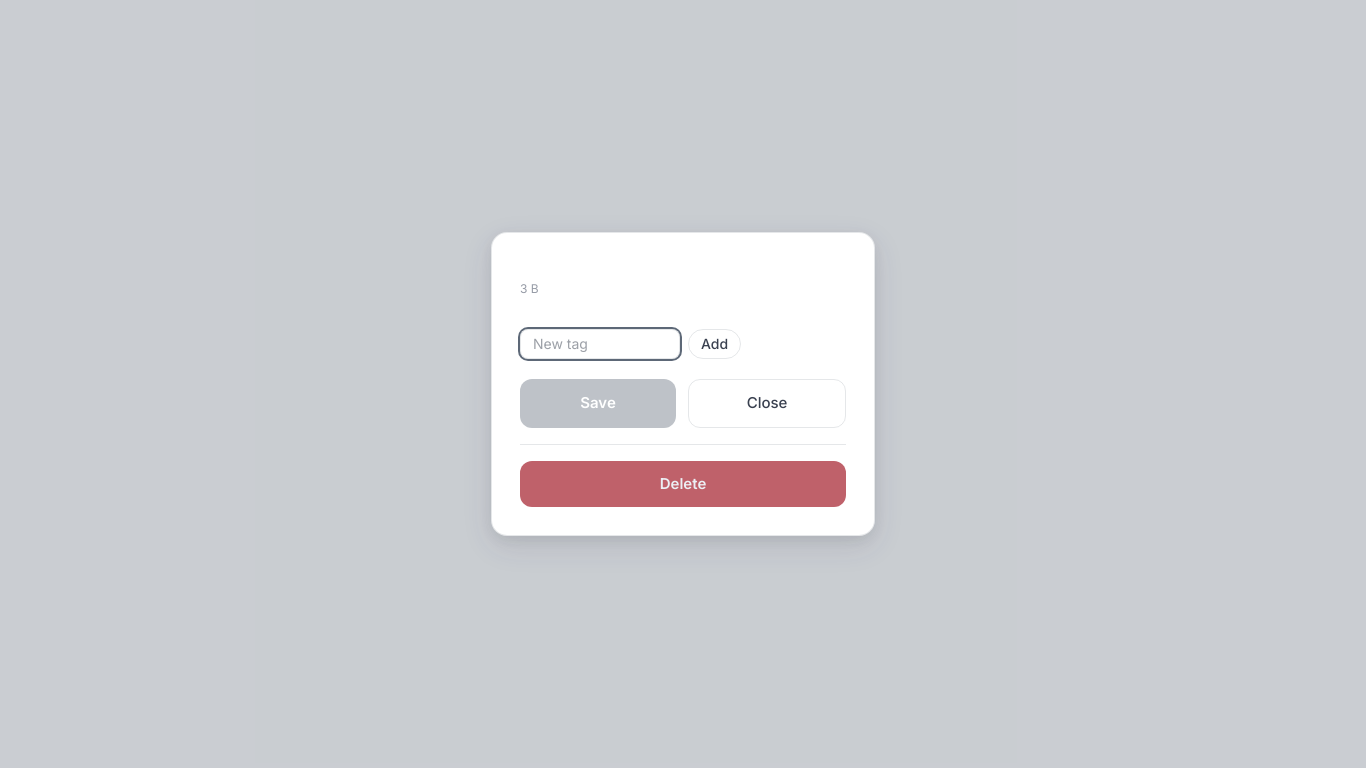
Test: SourceSheet › creates a new tag and stages its assignment
Type "Ducklings" into the field labelled "New tag" at (600, 344), box [520,329,680,359]
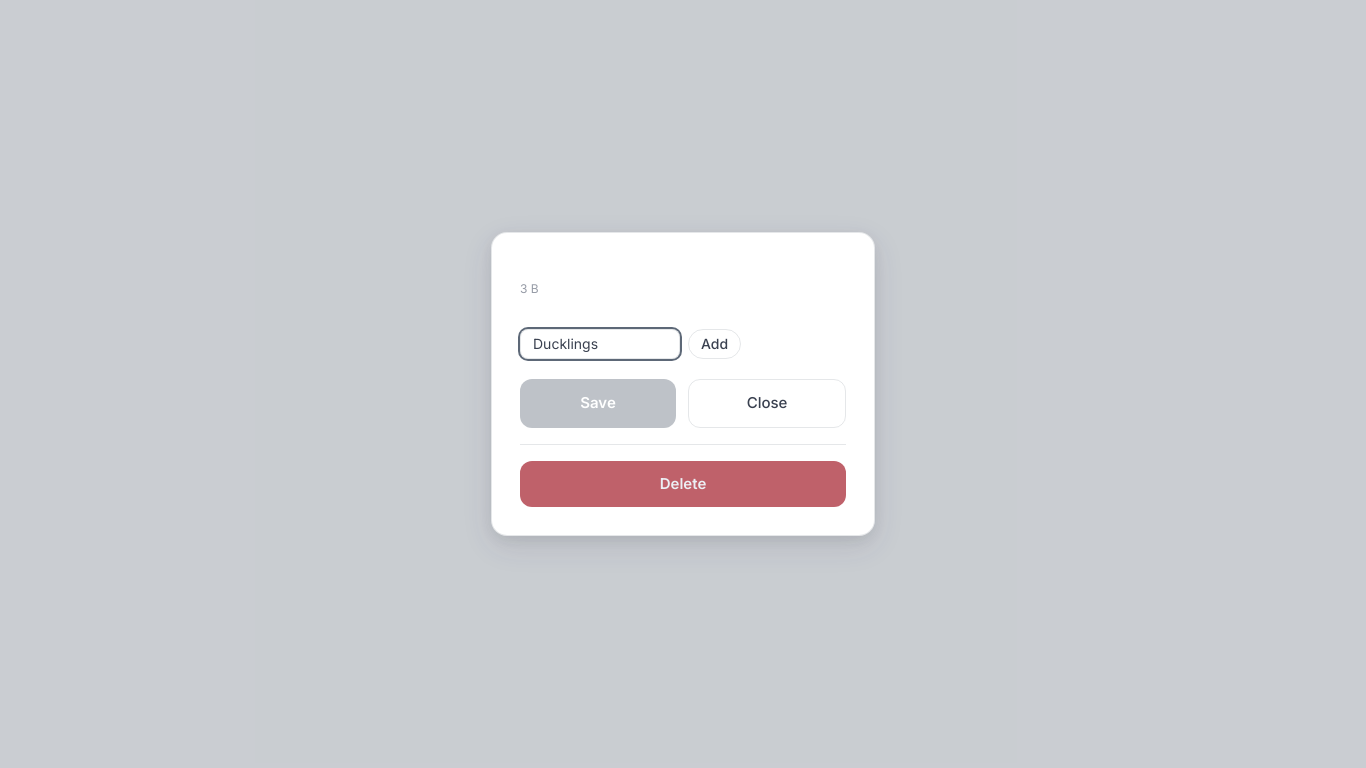
Click the button "Add" at (715, 344), box [688,329,741,359]
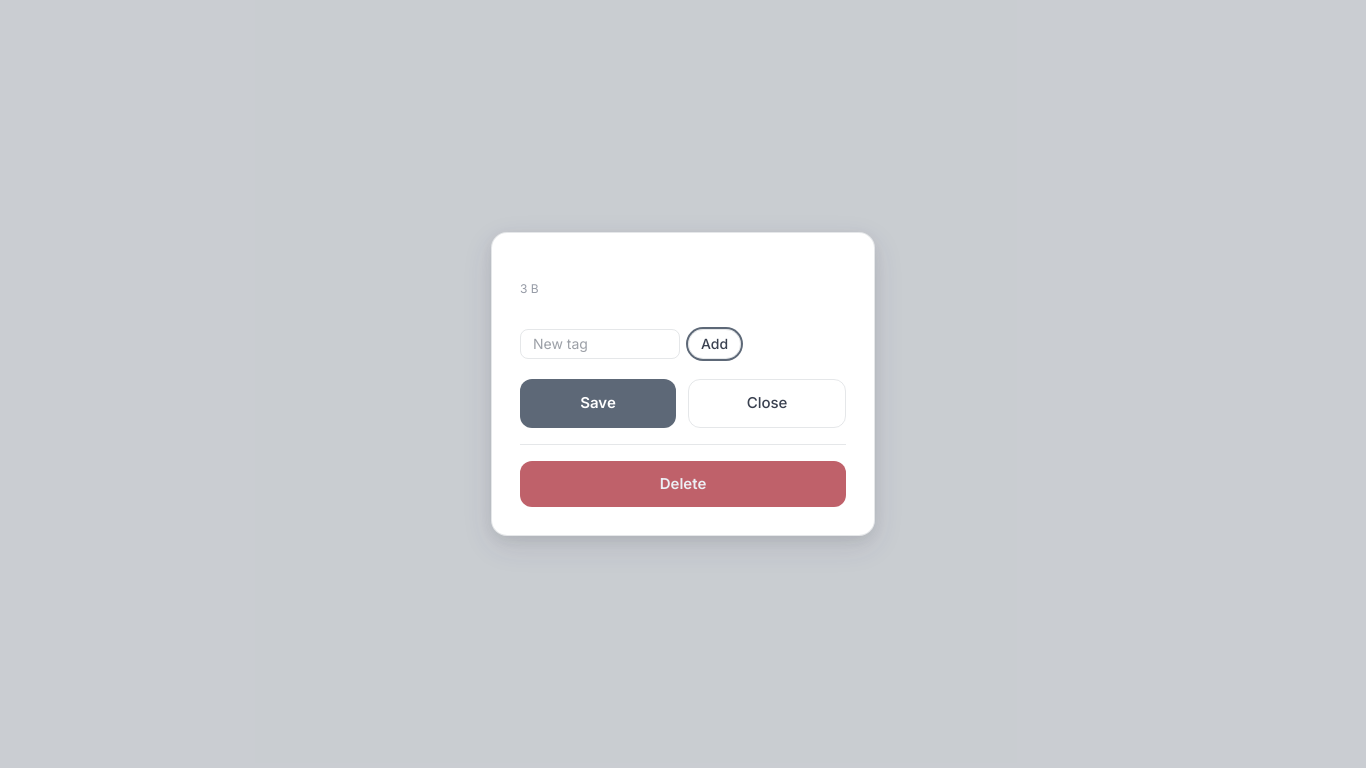
Result: the button "Save" is enabled at [520,379,676,428]
